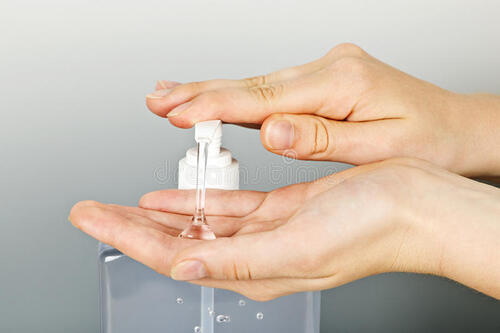sanitizer: (184, 122, 239, 207)
